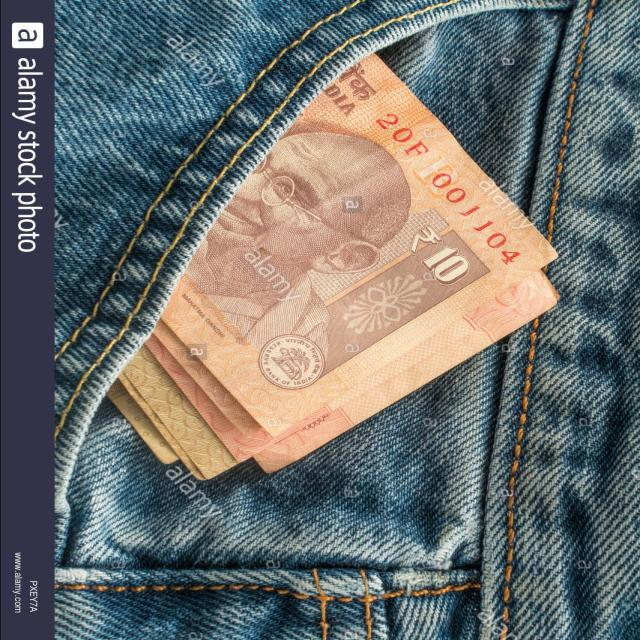10IndianRupees: (162, 59, 550, 477)
